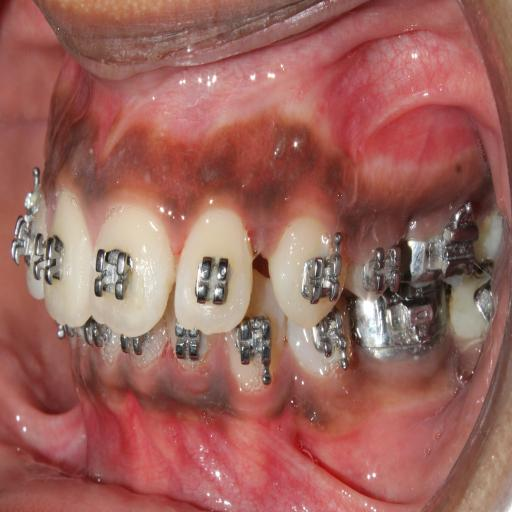correct_brace: (190, 244, 234, 319), (88, 242, 136, 308), (305, 248, 340, 306)
incorrect_brace: (173, 201, 255, 334)
